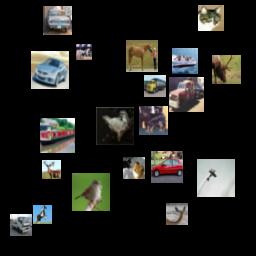airplane: (197, 159, 235, 197)
automobile: (31, 51, 69, 89), (151, 151, 183, 183), (43, 6, 72, 35)
bird: (96, 107, 134, 145), (72, 173, 110, 211)
cat: (198, 5, 224, 31), (123, 157, 145, 179)
deer: (212, 55, 241, 84), (166, 203, 188, 225), (42, 160, 61, 179)
dog: (139, 106, 168, 135)
ship: (40, 118, 75, 153), (172, 48, 198, 74)
truck: (169, 77, 204, 112), (144, 75, 166, 97), (10, 214, 32, 236)
